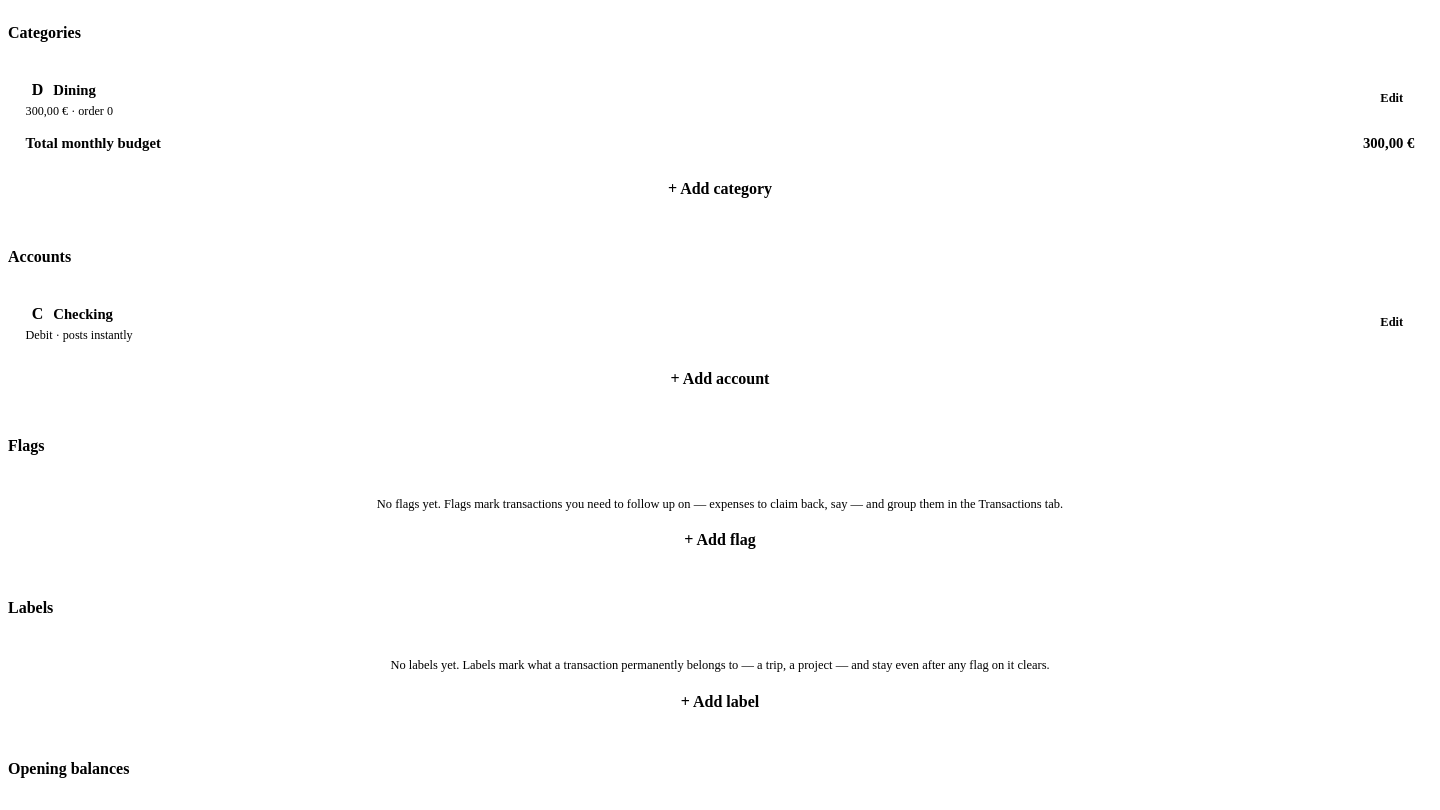
DefinitionsEditor › opens a record in the editor from its row, and closes it from Close
Click the button "Edit" in the row of "300,00 € · order 0".
click(1392, 98)  # box [1369,85,1414,111]
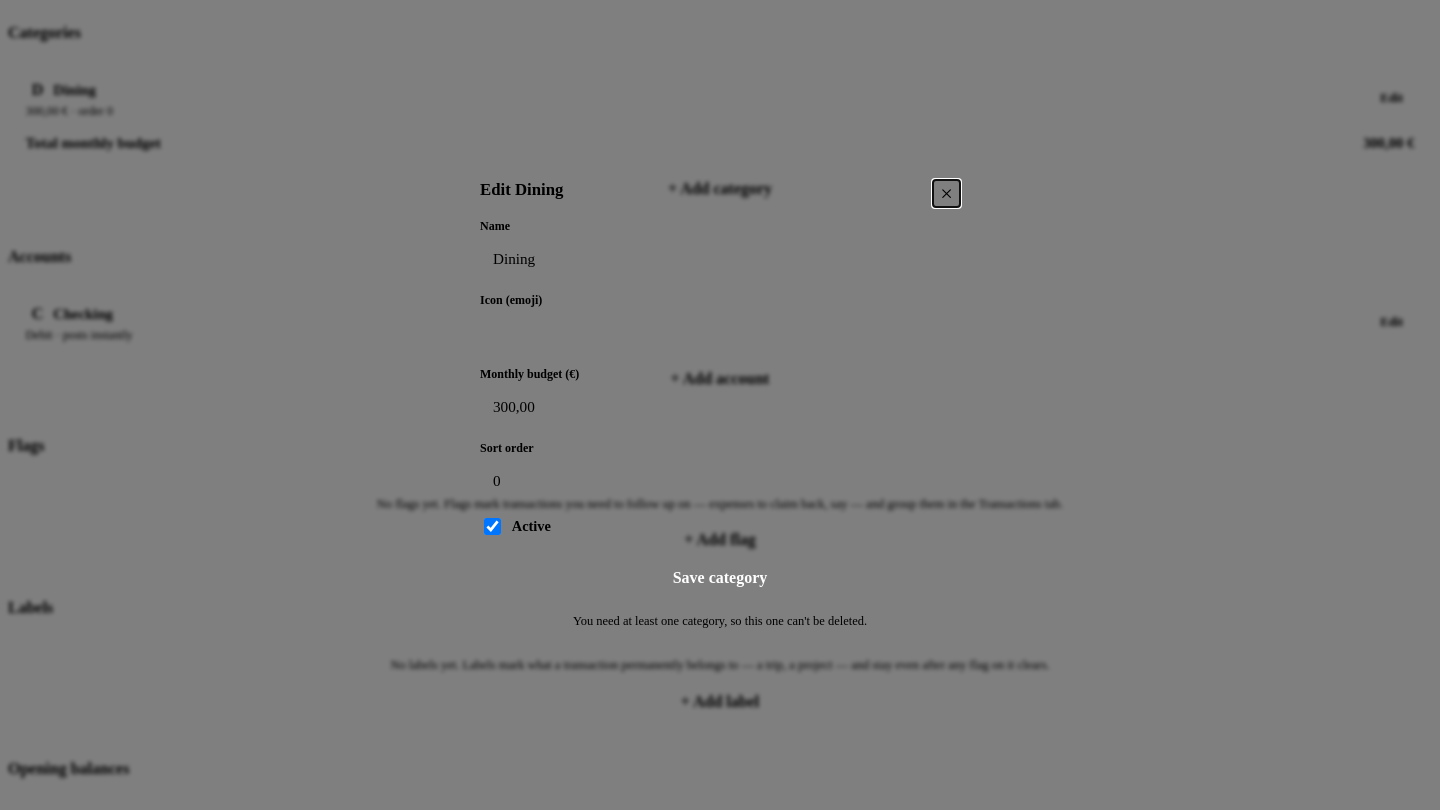
Expected: the dialog "Edit Dining" is shown, [462,164,978,646]
Click the button named "Close".
click(946, 193)  # box [933,180,960,207]
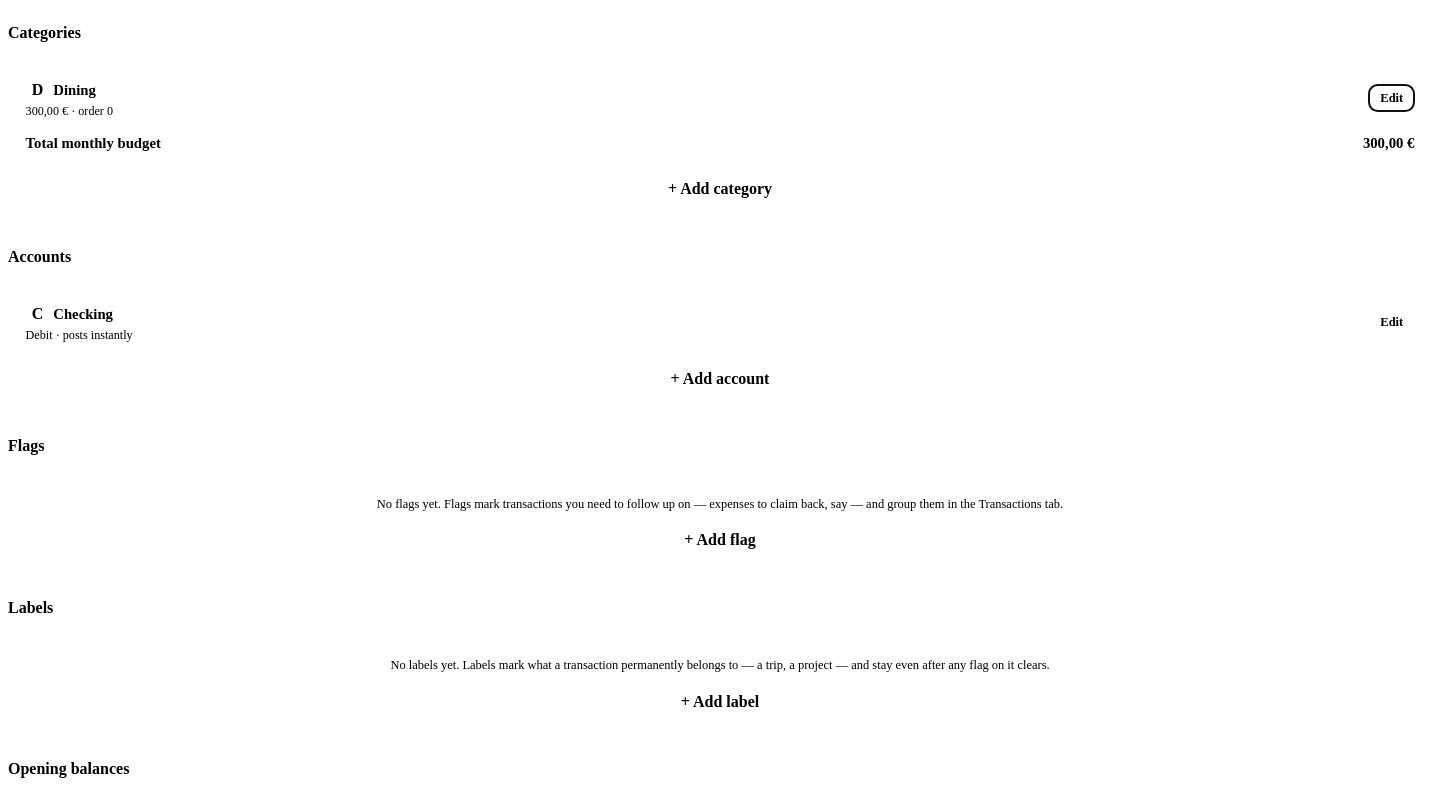
Expected: the dialog is gone
